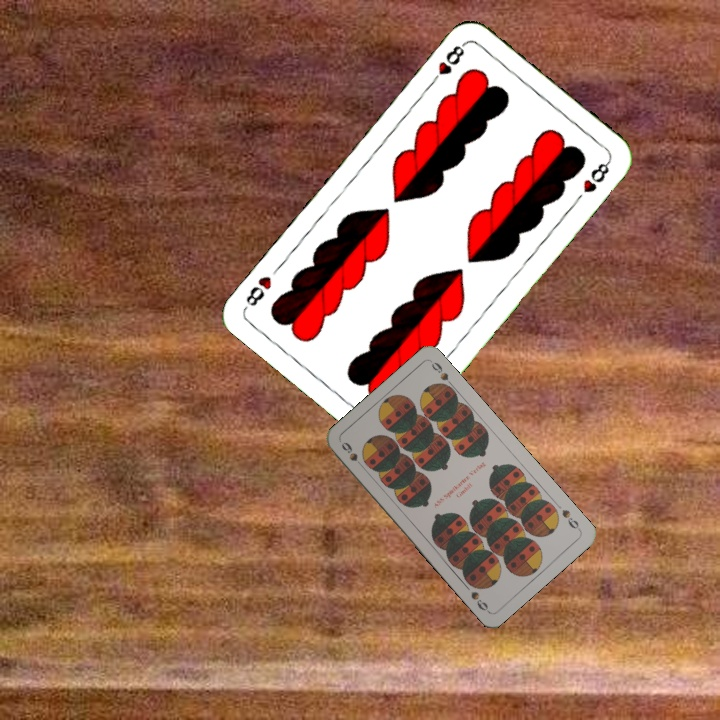H8: (426, 38, 469, 88)
S9: (337, 438, 367, 472), (558, 505, 583, 533)
